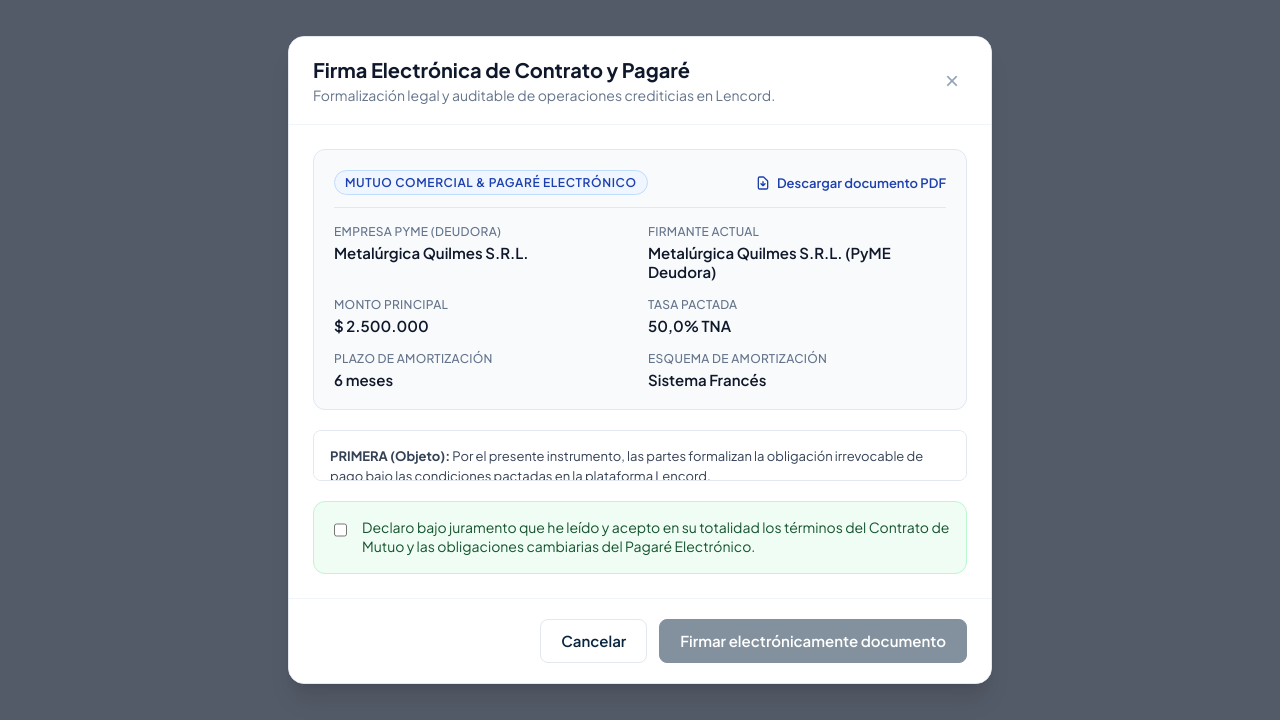
Test: ElectronicSignatureModal Component (Issue #67) › enforces mandatory oath consent checkbox before allowing signature
Expected: the button with test id "btn-sign-contract" is disabled, [659, 619, 967, 663]
Check oath box
Click the checkbox with test id "consent-checkbox" at coordinates (340, 530), box [334, 521, 347, 539]
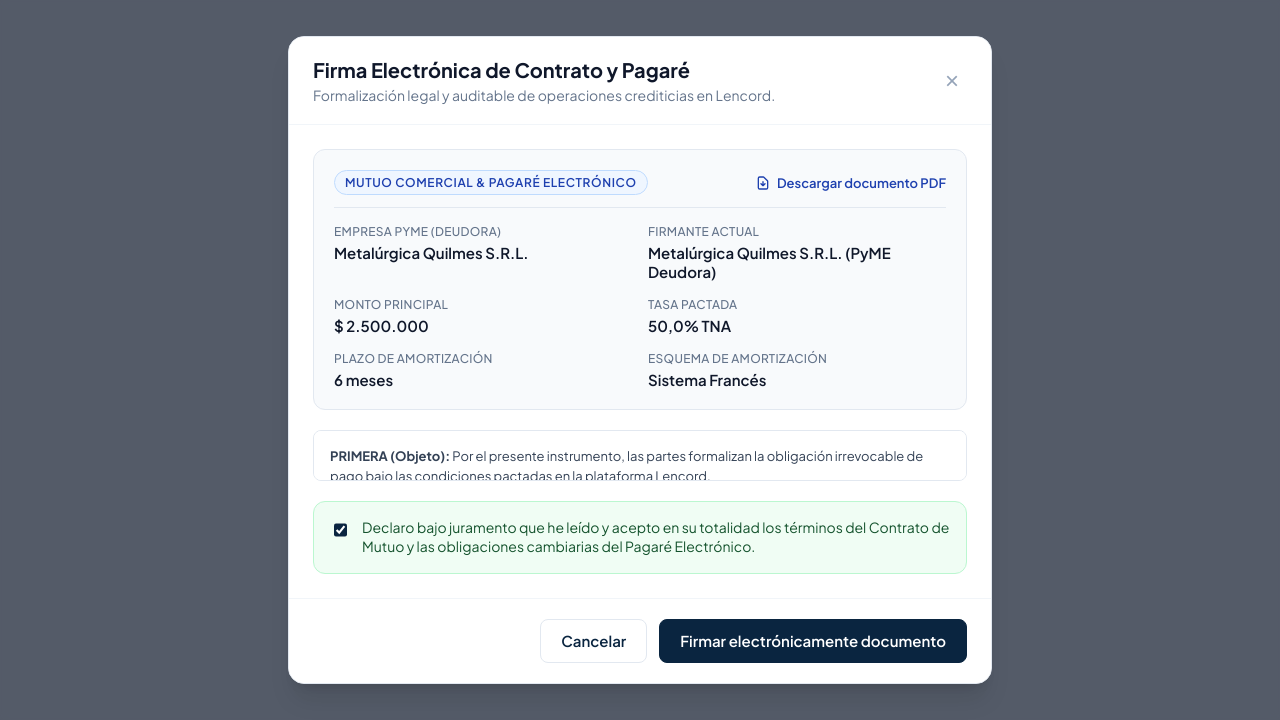
Result: the button with test id "btn-sign-contract" is enabled at [659, 619, 967, 663]
Uncheck oath box
Click the checkbox with test id "consent-checkbox" at coordinates (340, 530), box [334, 521, 347, 539]
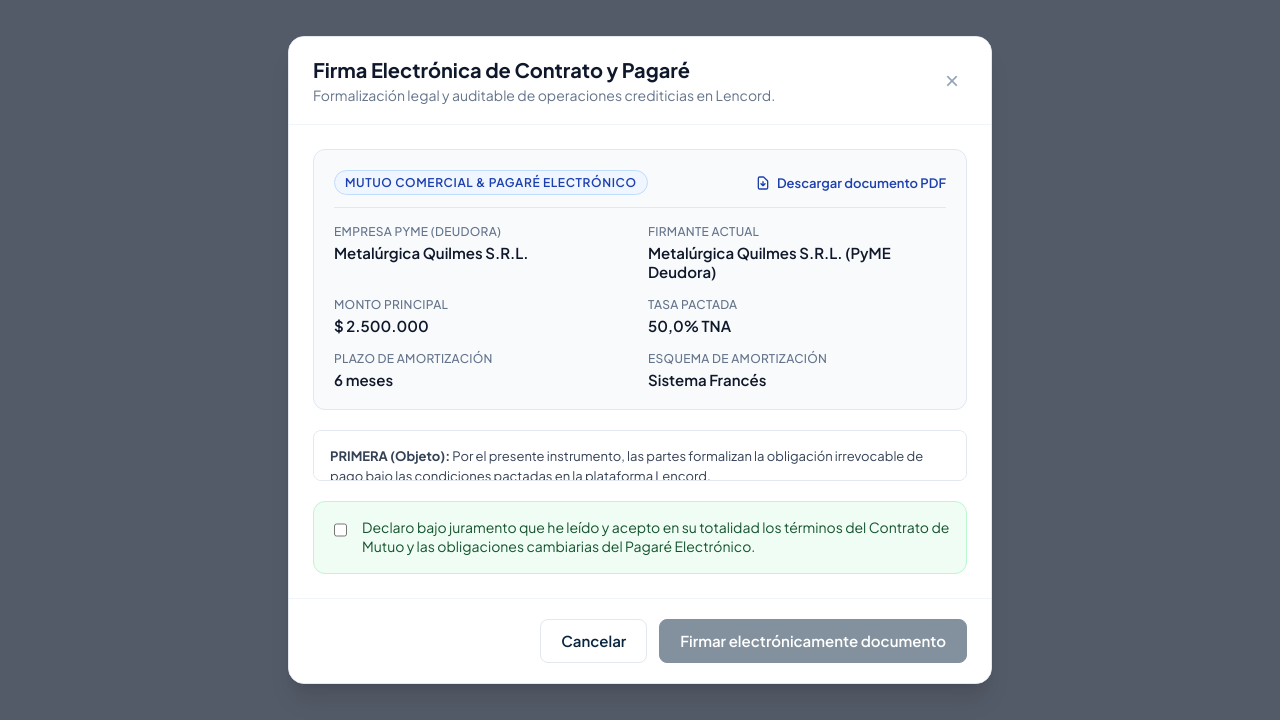
Result: the button with test id "btn-sign-contract" is disabled at [659, 619, 967, 663]
